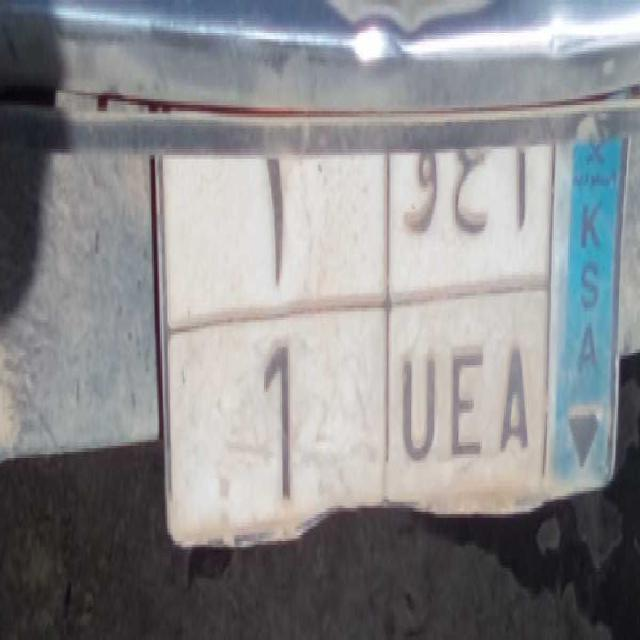license_plate: (169, 293, 549, 533)
